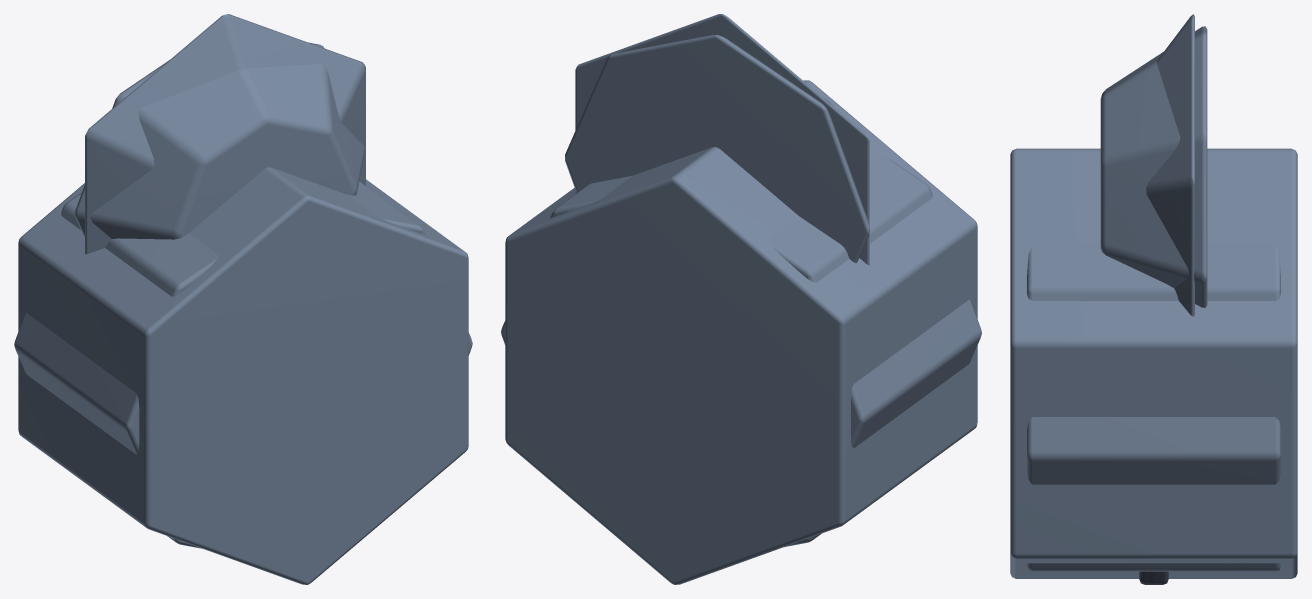
The model's file is resource_rock.glb.
The picture shows the model from 3 angles, left to right: view 1: azimuth 30°, elevation 25°; view 2: azimuth 150°, elevation 25°; view 3: azimuth 270°, elevation 25°; orthographic projection. The views are drawn at different scales.
Visible parts, largest first — view 1: LOD2_PROXY_base, LOD1_PROXY_cap, LOD2_PROXY_cap, LOD1_PROXY_base; view 2: LOD2_PROXY_base, LOD1_PROXY_cap, LOD1_PROXY_base, LOD2_PROXY_cap; view 3: LOD2_PROXY_base, LOD1_PROXY_base, LOD1_PROXY_cap, LOD2_PROXY_cap, resource_rubble.
Part boxes in pixels (x1=…): LOD2_PROXY_base: x1=18, y1=167, x2=468, y2=584; LOD1_PROXY_cap: x1=75, y1=42, x2=364, y2=239; LOD2_PROXY_cap: x1=85, y1=14, x2=365, y2=254; LOD1_PROXY_base: x1=14, y1=181, x2=472, y2=548; LOD2_PROXY_base: x1=505, y1=80, x2=977, y2=584; LOD1_PROXY_cap: x1=565, y1=34, x2=869, y2=262; LOD1_PROXY_base: x1=501, y1=155, x2=981, y2=546; LOD2_PROXY_cap: x1=575, y1=14, x2=869, y2=265; LOD2_PROXY_base: x1=1010, y1=148, x2=1297, y2=578; LOD1_PROXY_base: x1=1027, y1=243, x2=1280, y2=571; LOD1_PROXY_cap: x1=1100, y1=26, x2=1207, y2=307; LOD2_PROXY_cap: x1=1146, y1=14, x2=1194, y2=316; resource_rubble: x1=1139, y1=571, x2=1168, y2=584.
Size of the model in its own units: 2.69 by 3.8 by 1.75.
6 materials, 5 textured.
